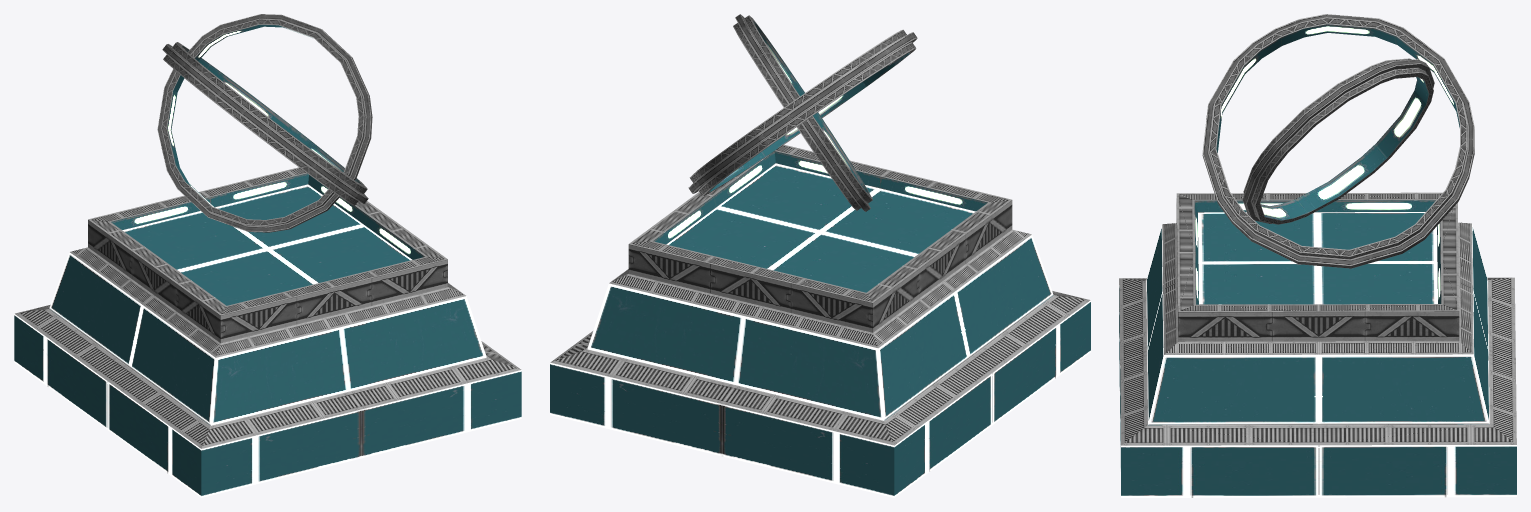
The model's file is ARC1110008.fbx.
3 views of the same model, side by side, from view 1: azimuth 30°, elevation 25°; view 2: azimuth 150°, elevation 25°; view 3: azimuth 270°, elevation 25° (orthographic). The views are drawn at different scales.
Parts seen in each view (by area): view 1: smARC1110008; view 2: smARC1110008; view 3: smARC1110008.
Part boxes in pixels (x1,y1,x2,y2): smARC1110008: (14,14,521,497); smARC1110008: (550,14,1090,497); smARC1110008: (1119,14,1516,497).
Size of the model in its own units: 230 by 235 by 230.
Materials: 1 (1 with a texture image).
